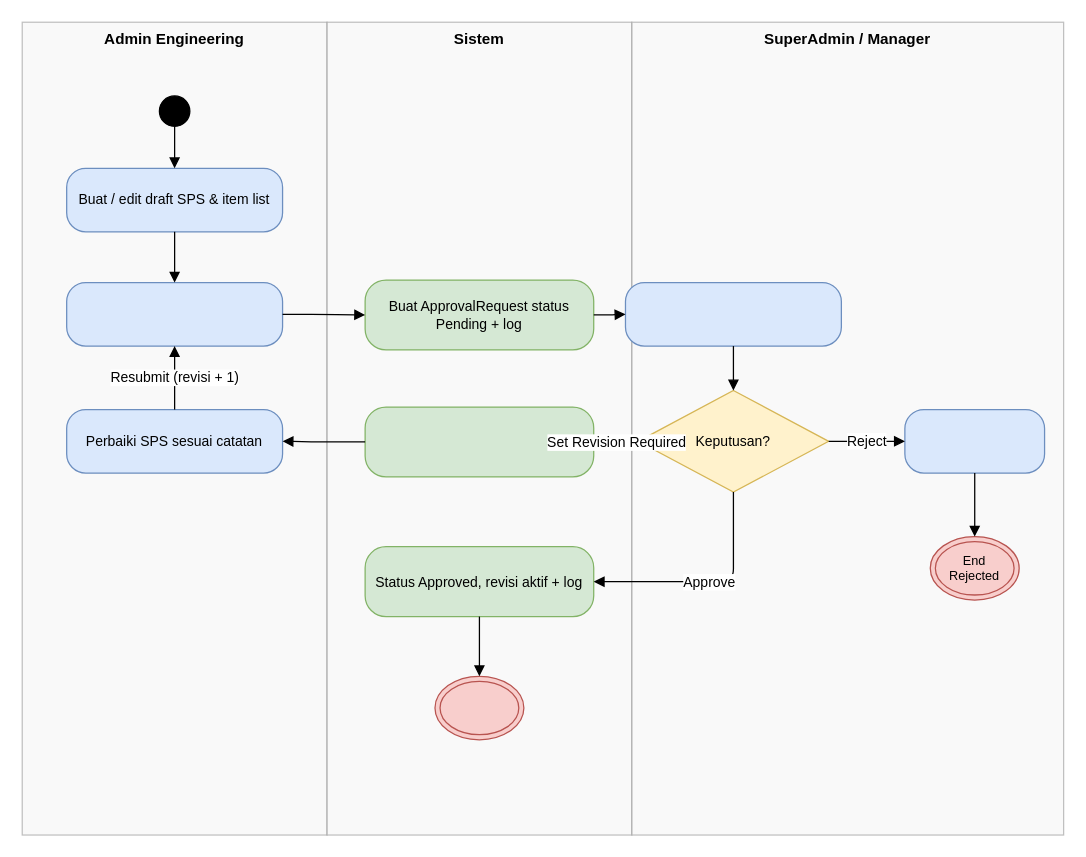
This 1086x857 diagram has some shape labels left out. The box of each missing label's shape, as (x1, y1, x2, y2) in pixels:
End Approved: (434, 675, 524, 740)
Reject + alasan: (904, 408, 1045, 473)
Review SPS & item standar: (624, 281, 841, 346)
Status RevisionRequired + notifikasi: (364, 406, 594, 477)
Submit pengajuan: (65, 281, 283, 346)
